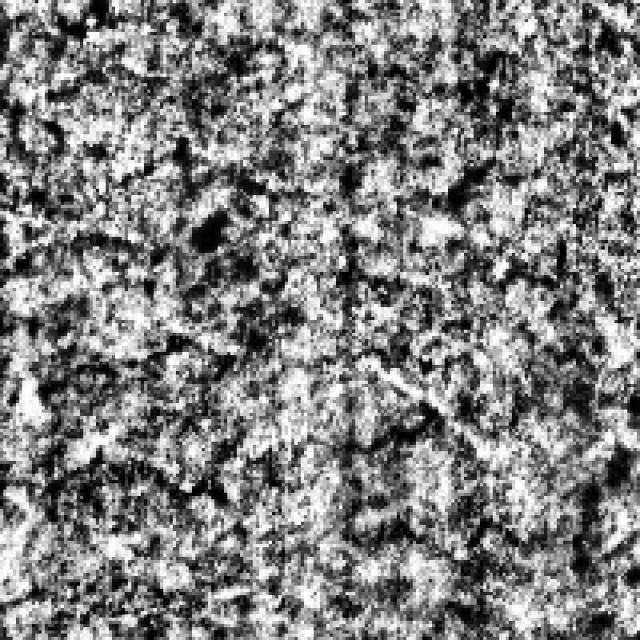Pitted_Surface: (333, 394, 566, 556), (32, 323, 237, 499)
